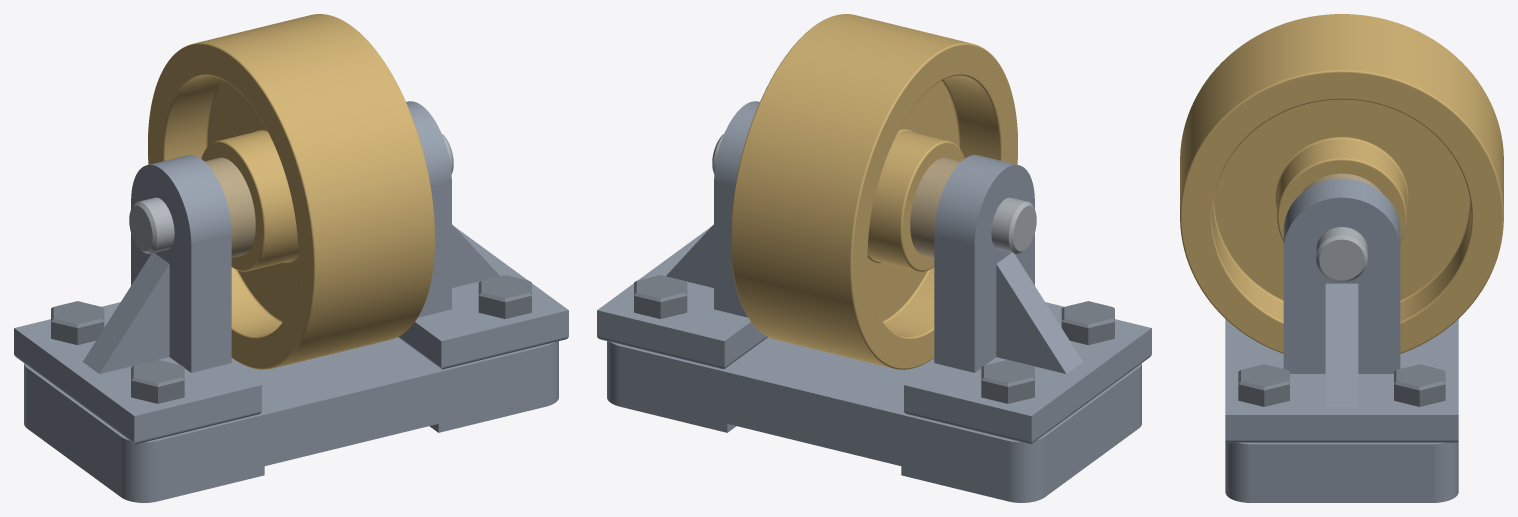
Rendered from ax_roller_assembly.glb.
3 renders of one model, left to right at view 1: azimuth 30°, elevation 25°; view 2: azimuth 150°, elevation 25°; view 3: azimuth 270°, elevation 25°, orthographic. The views are drawn at different scales.
Visible parts, largest first — view 1: roller, base, bracket (left), bracket (right), bush (left), spindle, hex bolt 3, hex bolt 1, hex bolt 4; view 2: roller, base, bracket (left), bracket (right), bush (left), spindle, hex bolt 4, hex bolt 2, hex bolt 3; view 3: roller, bracket (right), base, spindle, hex bolt 1, hex bolt 2.
Boxes of the visible parts, x1,y1,x2,y2 form: roller: [148, 14, 434, 369]; base: [24, 337, 558, 502]; bracket (left): [14, 155, 261, 444]; bracket (right): [398, 101, 568, 369]; bush (left): [204, 157, 255, 257]; spindle: [129, 134, 453, 253]; hex bolt 3: [131, 360, 184, 403]; hex bolt 1: [478, 275, 531, 318]; hex bolt 4: [51, 301, 104, 345]; roller: [731, 14, 1017, 369]; base: [607, 337, 1141, 502]; bracket (left): [904, 155, 1151, 444]; bracket (right): [597, 101, 767, 369]; bush (left): [910, 157, 961, 257]; spindle: [712, 134, 1036, 253]; hex bolt 4: [981, 360, 1034, 403]; hex bolt 2: [634, 275, 687, 318]; hex bolt 3: [1061, 301, 1114, 345]; roller: [1180, 14, 1503, 353]; bracket (right): [1225, 178, 1458, 442]; base: [1225, 319, 1458, 502]; spindle: [1316, 227, 1367, 282]; hex bolt 1: [1238, 364, 1289, 406]; hex bolt 2: [1394, 364, 1445, 406].
Bounding box in the file's own units: 150 × 122 × 99.97.
